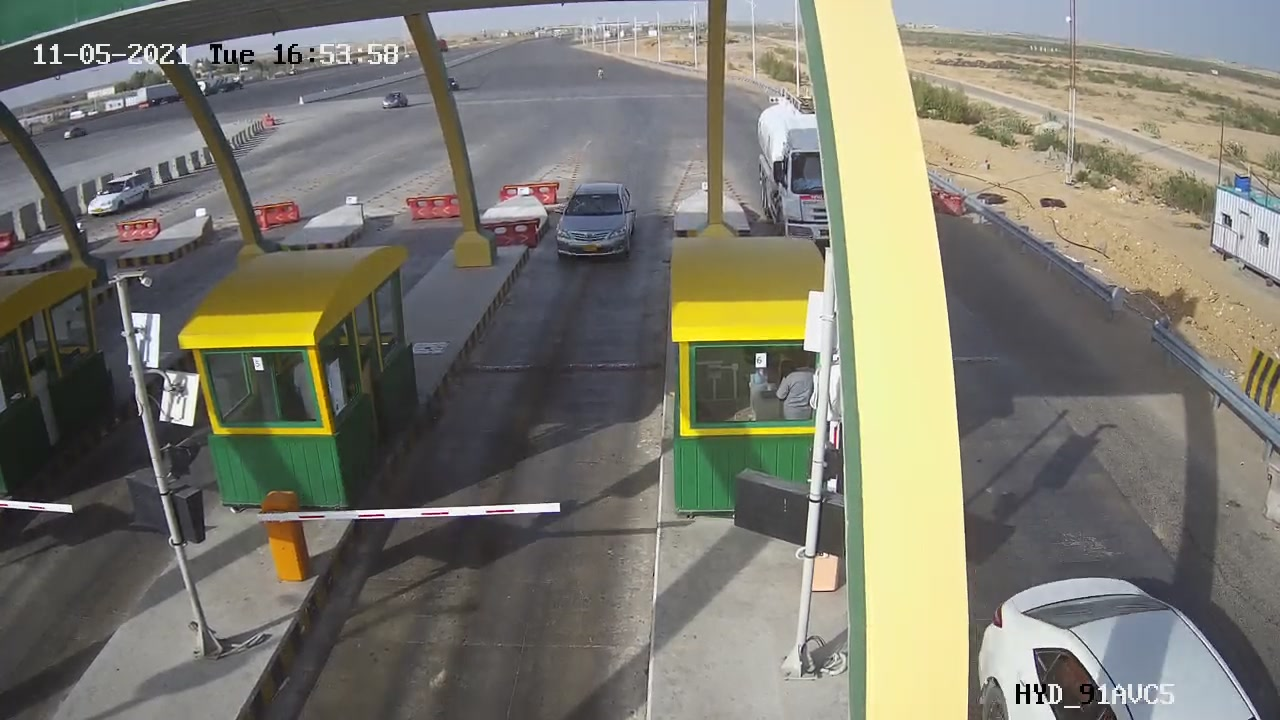F1: (541, 173, 652, 273)
